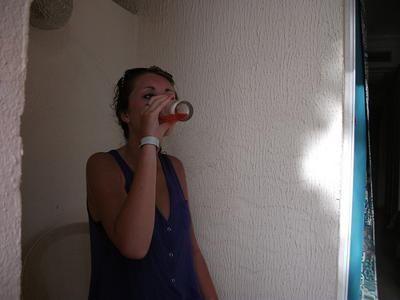person: (85, 66, 219, 300)
